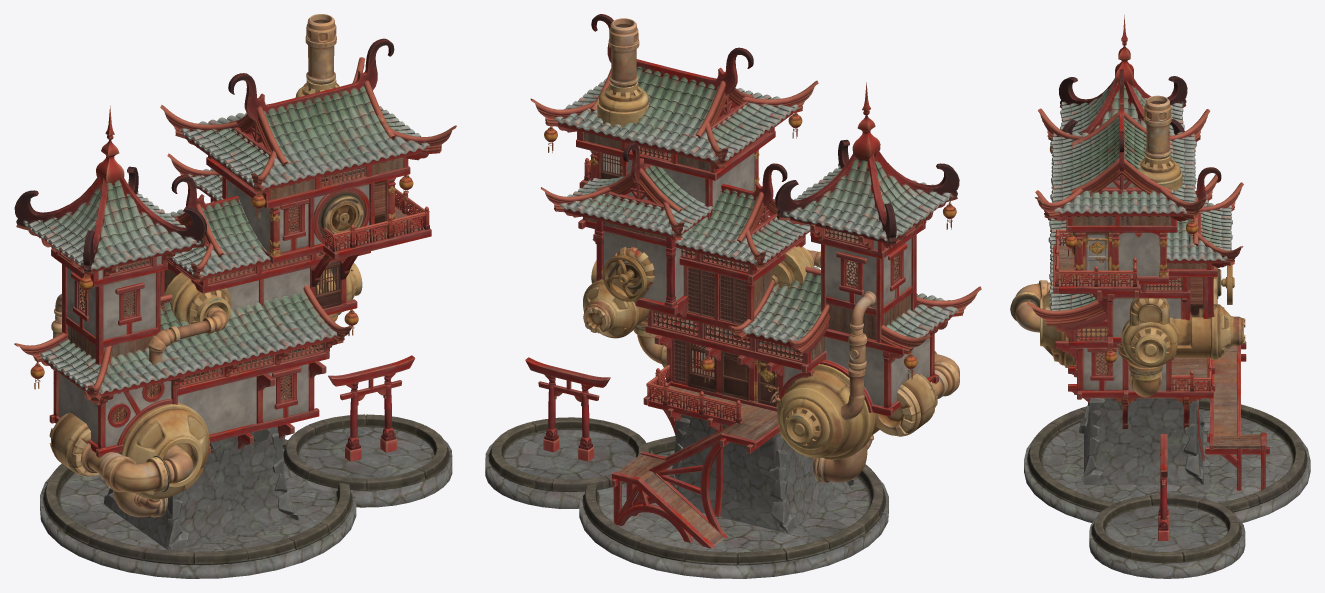
Rendered from tian.fbx.
The picture shows the model from 3 angles, left to right: view 1: azimuth 30°, elevation 25°; view 2: azimuth 150°, elevation 25°; view 3: azimuth 270°, elevation 25°; orthographic projection. The views are drawn at different scales.
Visible parts, largest first — view 1: Cube.002; view 2: Cube.002; view 3: Cube.002.
Part boxes in pixels (box(x1,y1,x2,y2)): Cube.002: box(14, 14, 456, 578); Cube.002: box(485, 14, 981, 578); Cube.002: box(1010, 15, 1310, 578).
Bounding box in the file's own units: 2830 × 1873 × 2916.
Materials: 1 (1 with a texture image).
